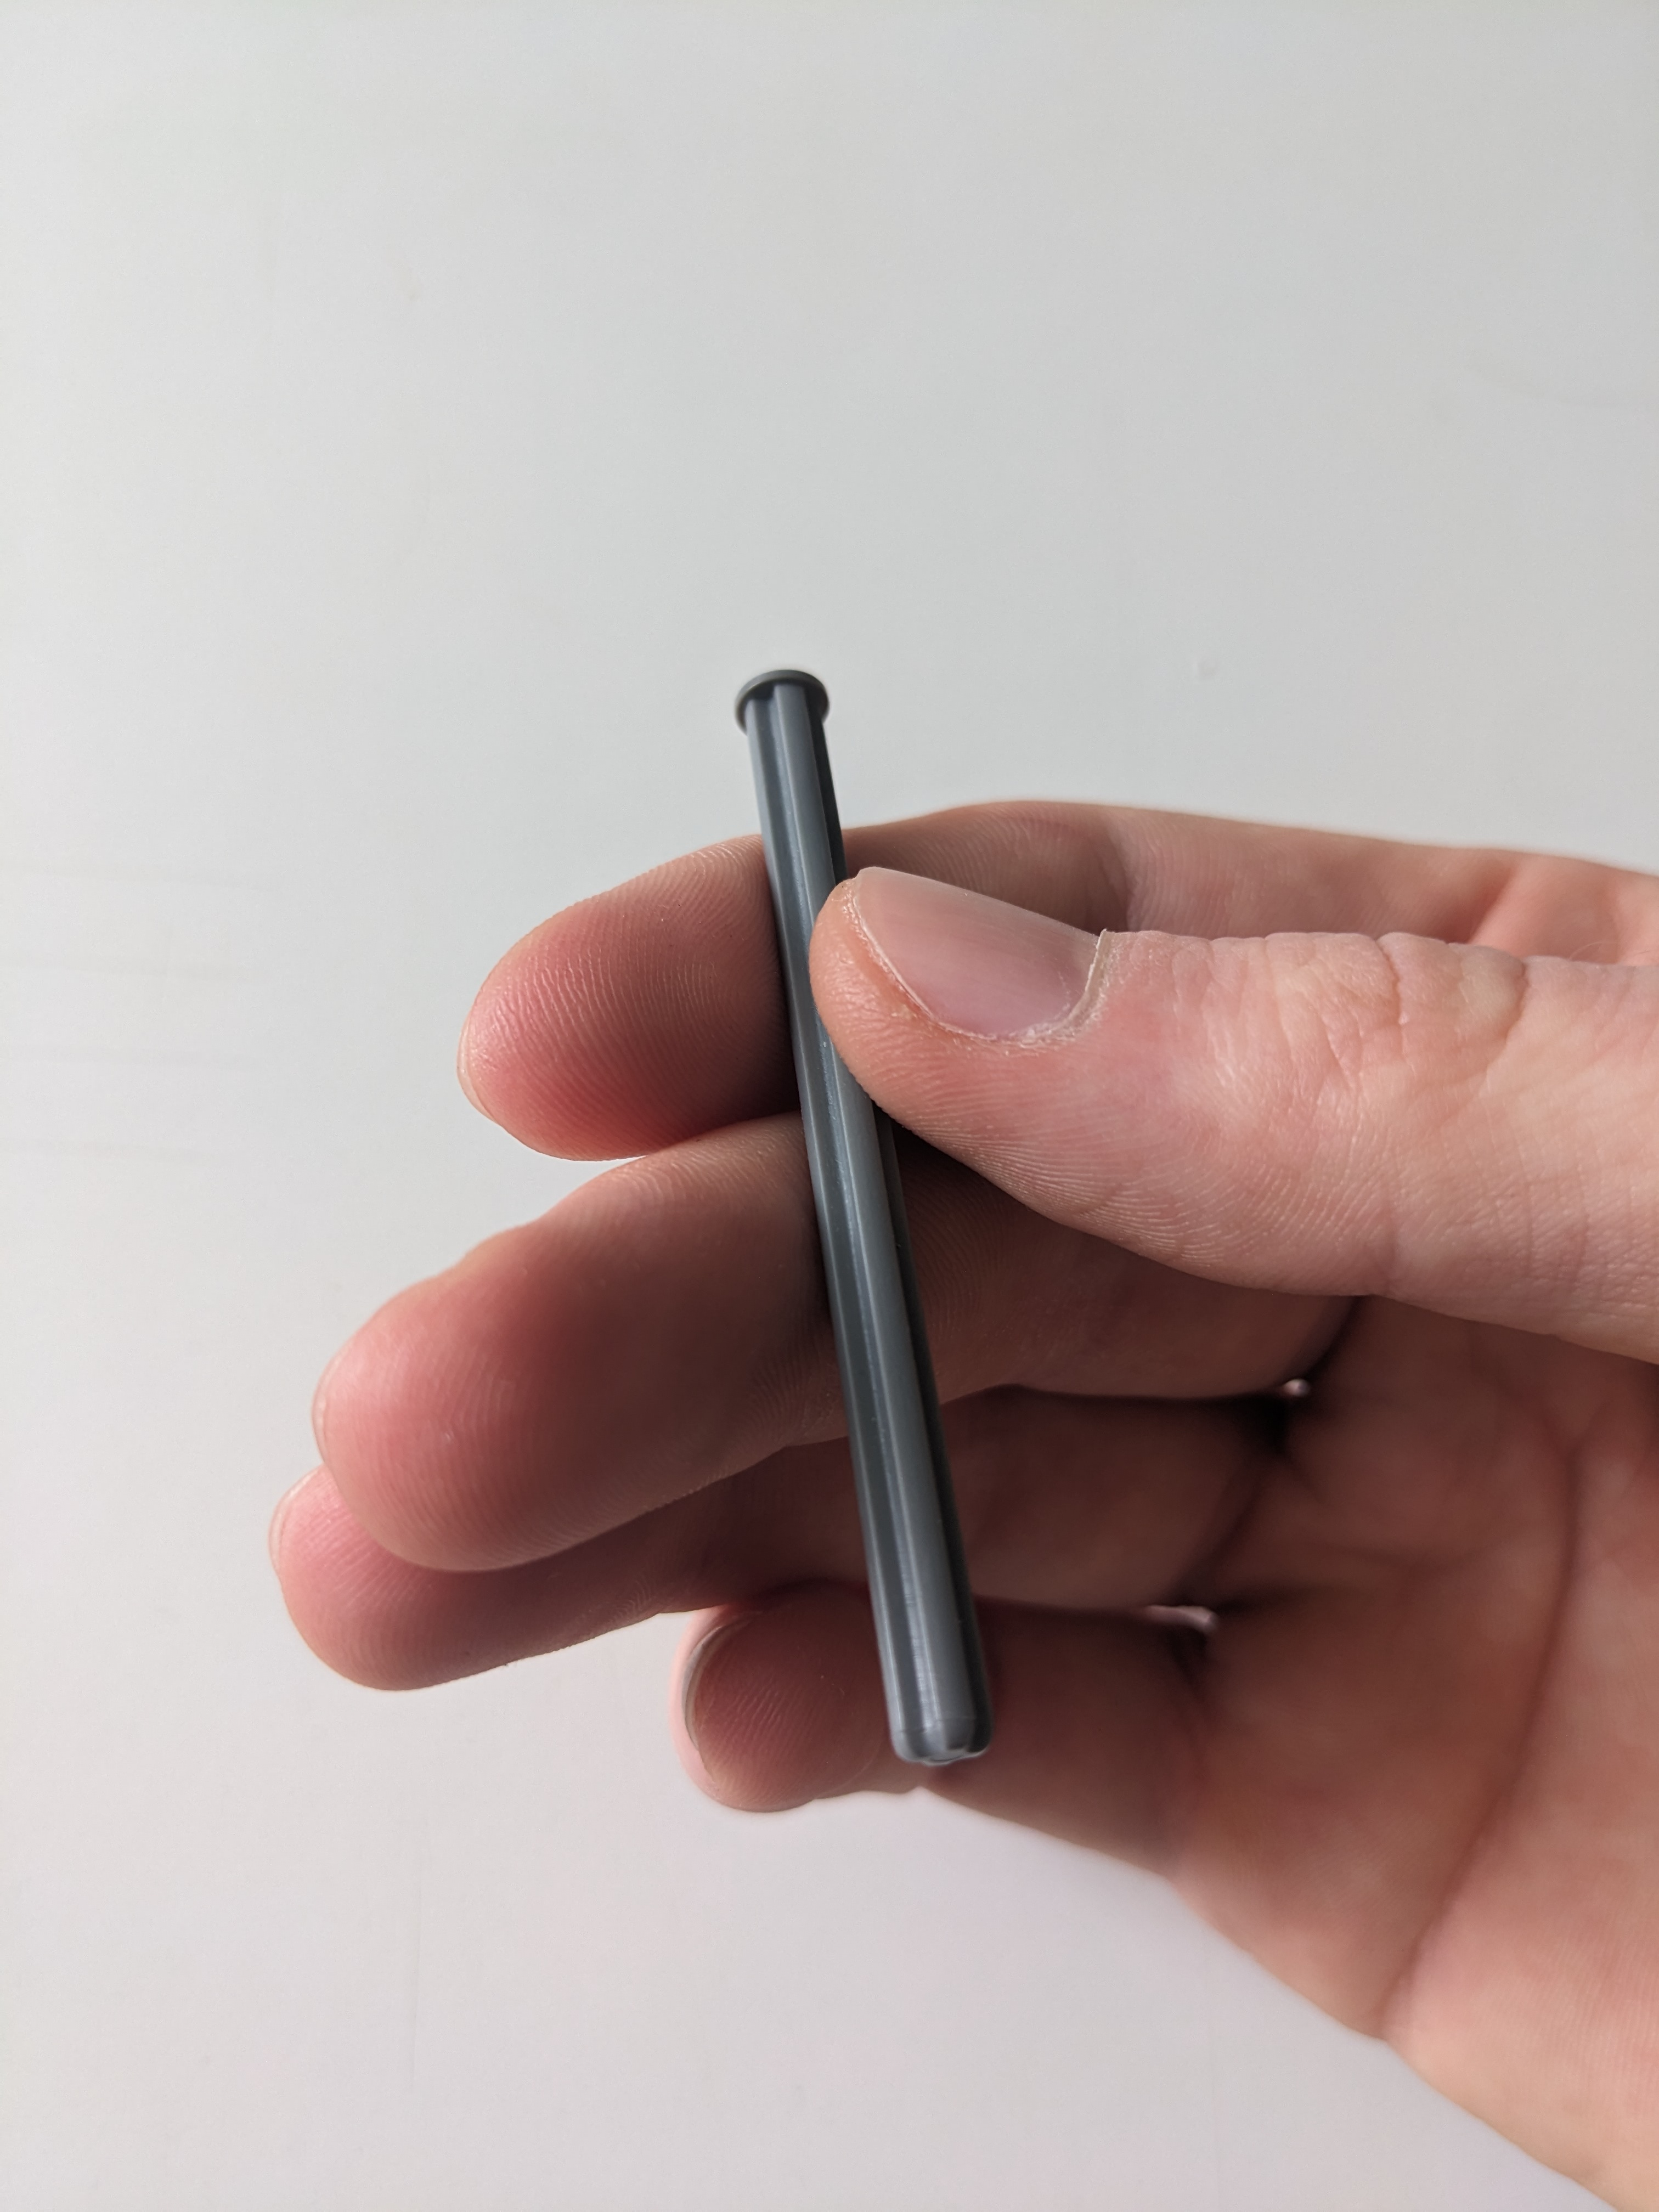Grau_lang: (720, 643, 1030, 1787)
